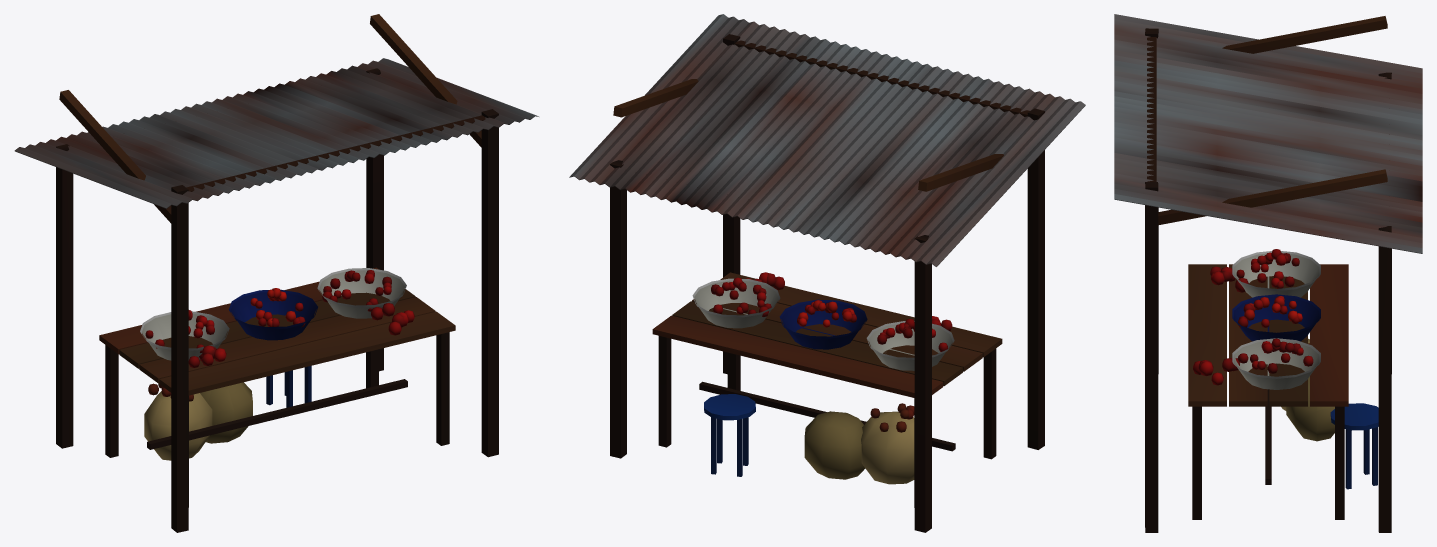
Rendered from mk_stall_zinc.glb.
3 renders of one model, left to right at view 1: azimuth 30°, elevation 25°; view 2: azimuth 150°, elevation 25°; view 3: azimuth 270°, elevation 25°, orthographic. The views are drawn at different scales.
Parts seen in each view (by area): view 1: mk_stall_zinc; view 2: mk_stall_zinc; view 3: mk_stall_zinc.
Boxes of the visible parts, box(x1,y1,x2,y2) form: mk_stall_zinc: box(14, 14, 538, 532); mk_stall_zinc: box(569, 14, 1085, 532); mk_stall_zinc: box(1114, 14, 1422, 532).
Bounding box in the file's own units: 2.7 × 2.45 × 1.9.
